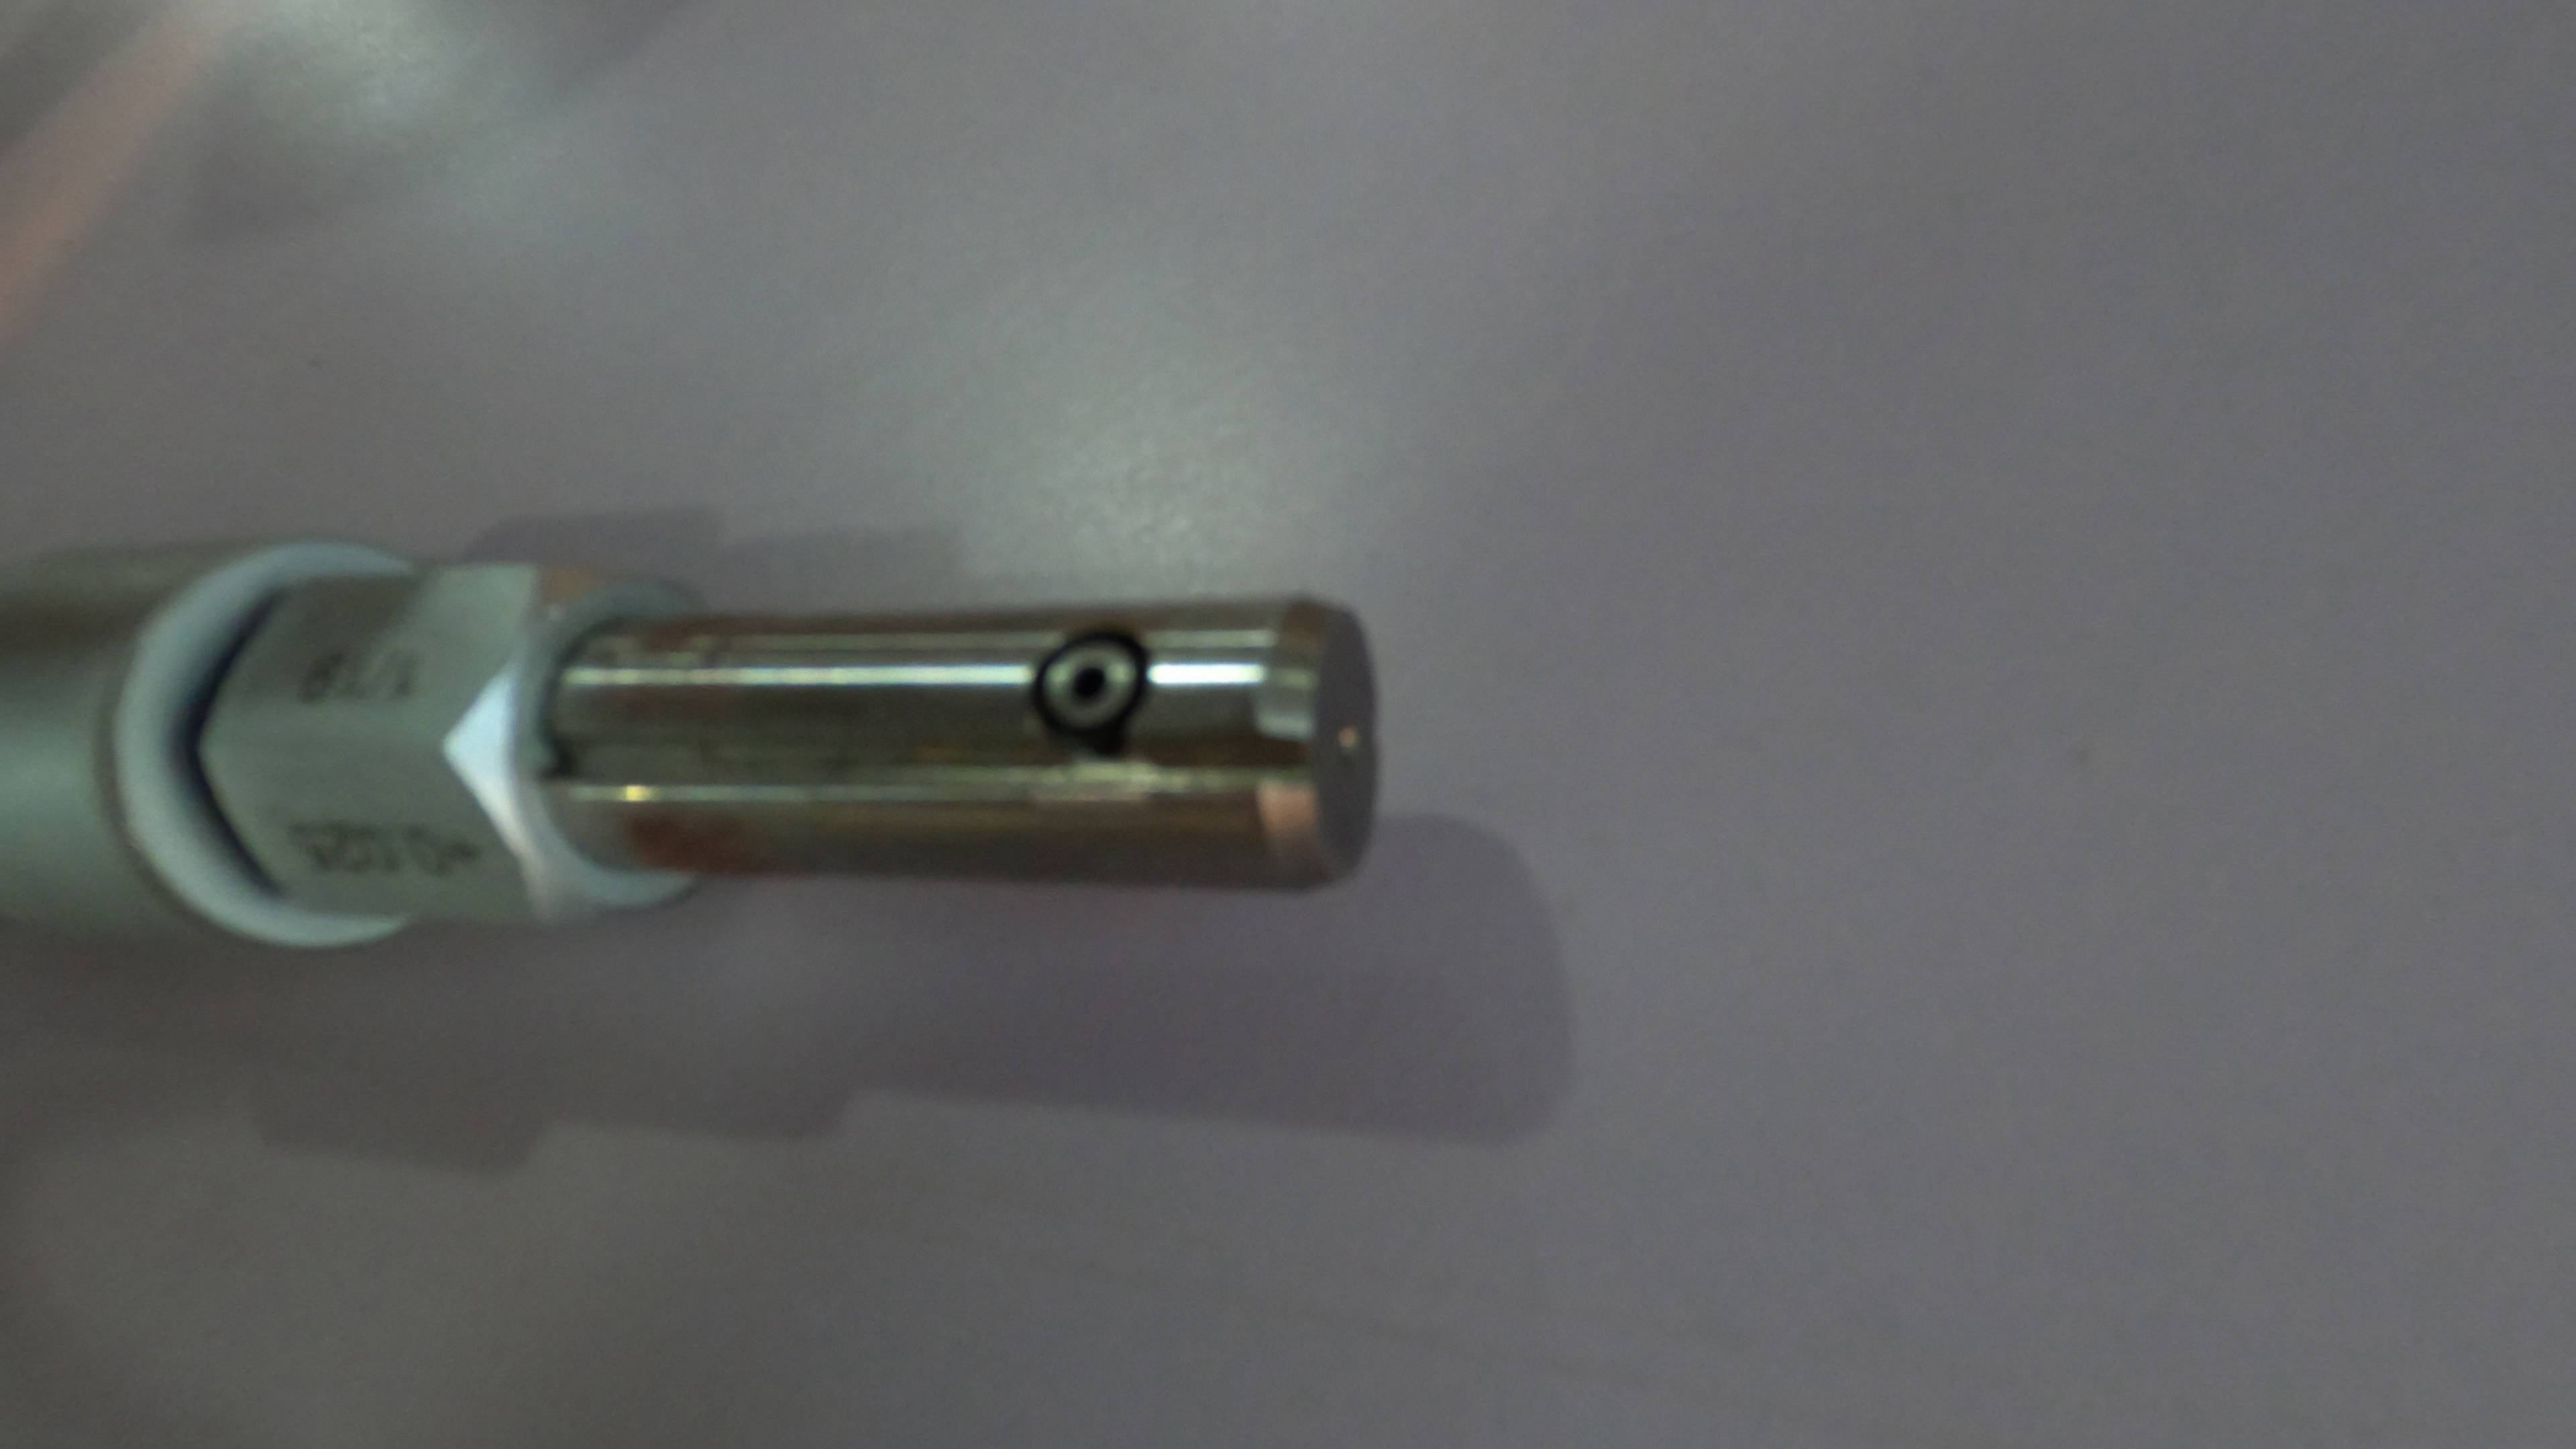air_gauge: (2, 538, 1385, 959)
